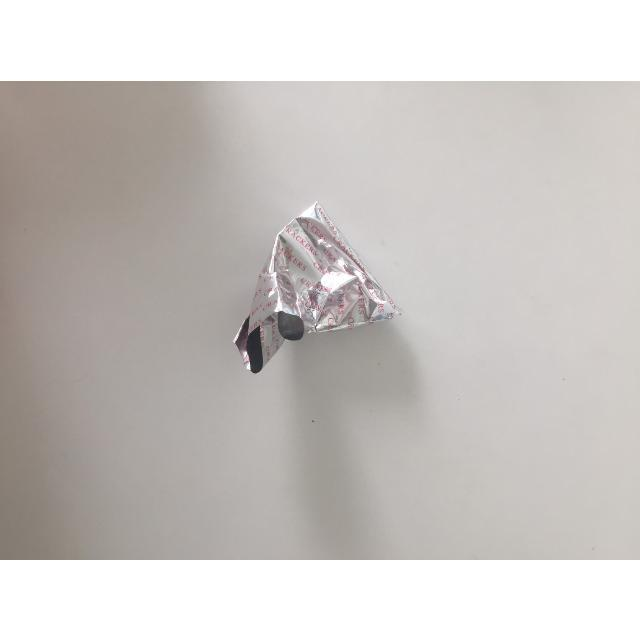Paquete de plastico: (240, 210, 387, 363)
